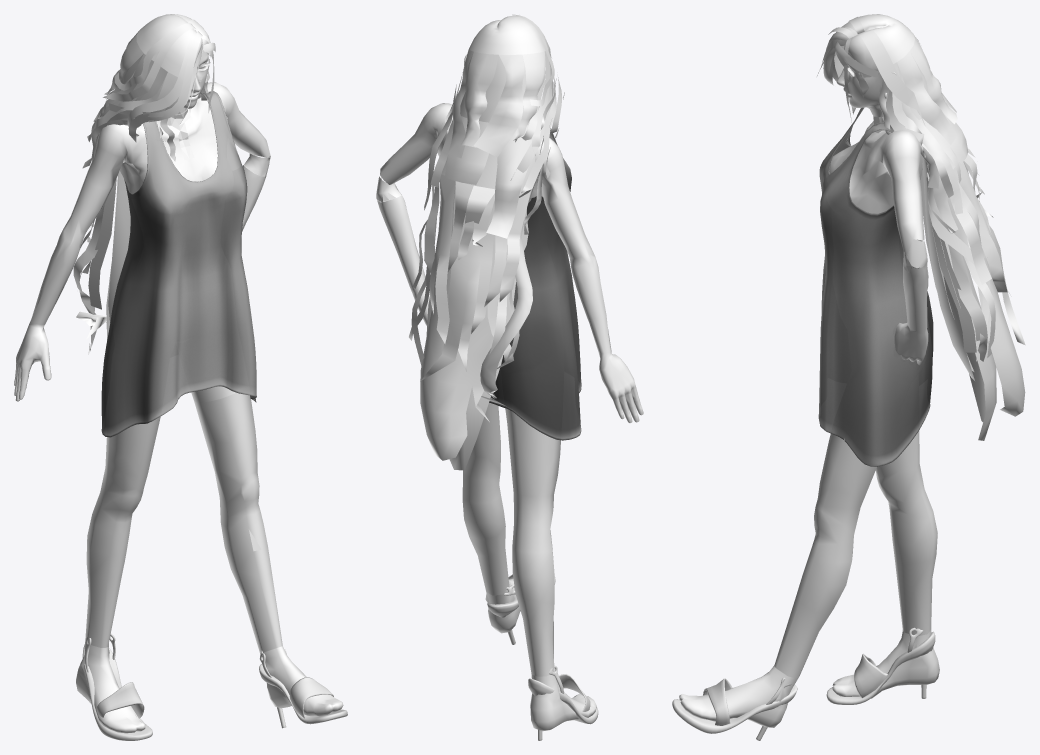
Rendered from basic.glb.
The picture shows the model from 3 angles, left to right: view 1: azimuth 30°, elevation 25°; view 2: azimuth 150°, elevation 25°; view 3: azimuth 270°, elevation 25°; orthographic projection. The views are drawn at different scales.
Parts seen in each view (by area): view 1: mesh9, Tee_S, mesh9_1, Fshoes_maya:polySurface159, Fshoes_maya:polySurface158; view 2: mesh9_1, mesh9, Tee_S, Fshoes_maya:polySurface159, Fshoes_maya:polySurface158; view 3: mesh9, mesh9_1, Tee_S, Fshoes_maya:polySurface158, Fshoes_maya:polySurface159.
Part boxes in pixels (<box>): mesh9: <box>14,47,343,733</box>; Tee_S: <box>101,91,256,437</box>; mesh9_1: <box>73,14,215,354</box>; Fshoes_maya:polySurface159: <box>82,633,152,740</box>; Fshoes_maya:polySurface158: <box>259,649,347,728</box>; mesh9_1: <box>409,14,564,470</box>; mesh9: <box>376,55,643,731</box>; Tee_S: <box>489,128,581,440</box>; Fshoes_maya:polySurface159: <box>528,665,598,740</box>; Fshoes_maya:polySurface158: <box>487,574,555,644</box>; mesh9: <box>679,44,939,727</box>; mesh9_1: <box>817,14,1025,440</box>; Tee_S: <box>818,107,933,466</box>; Fshoes_maya:polySurface158: <box>672,677,797,740</box>; Fshoes_maya:polySurface159: <box>826,627,935,704</box>.
Size of the model in its own units: 0.5055 by 1.3 by 0.5867.
Materials: 7 (1 with a texture image).
